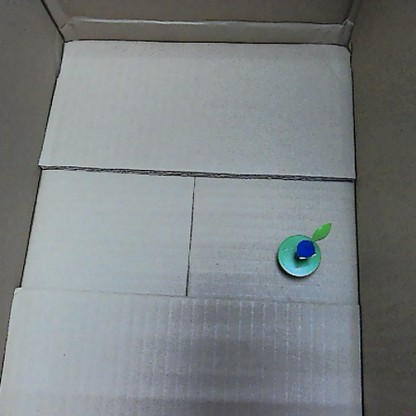leafairy: (276, 221, 333, 280)
